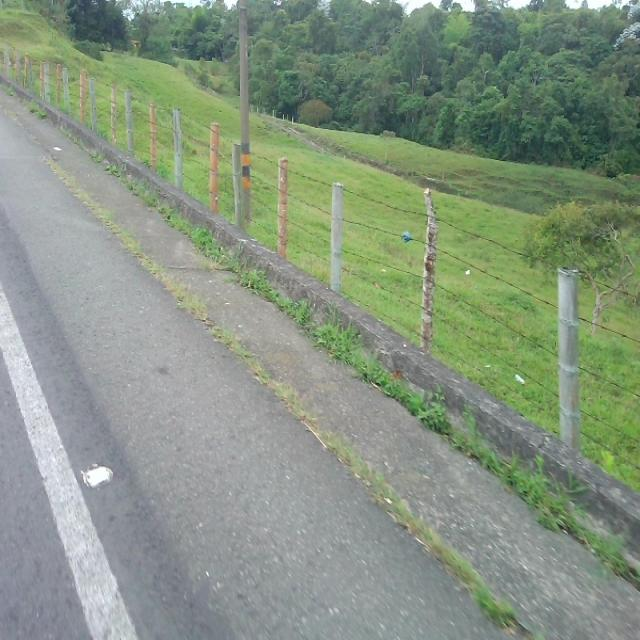DITCH: (1, 77, 638, 638)
